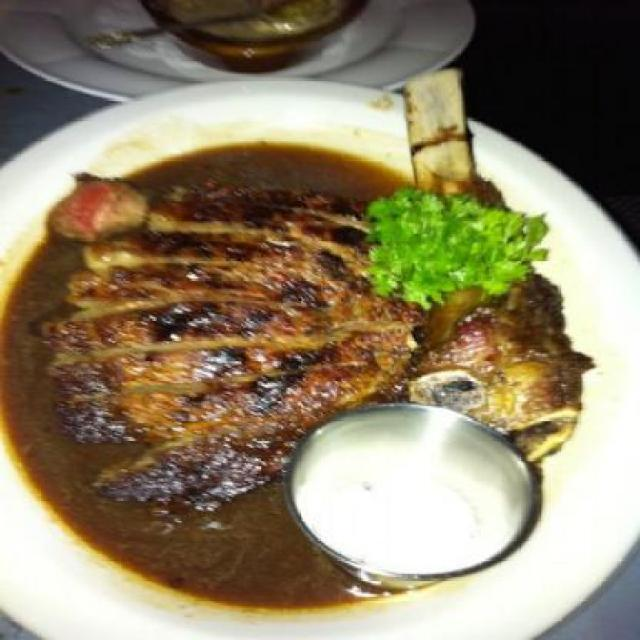Steak: (54, 152, 428, 484)
